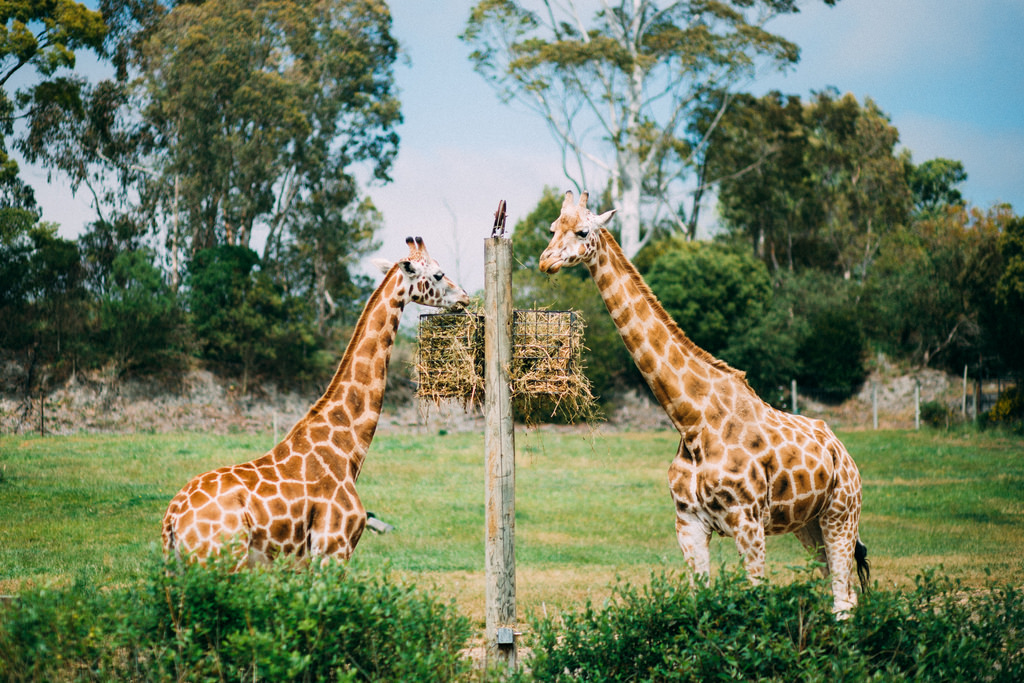giraffe: (530, 182, 867, 635), (146, 223, 482, 598)
